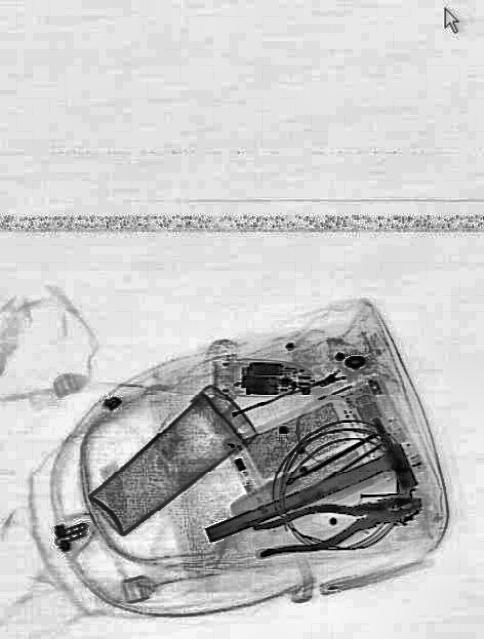Pliers: (252, 479, 424, 565)
